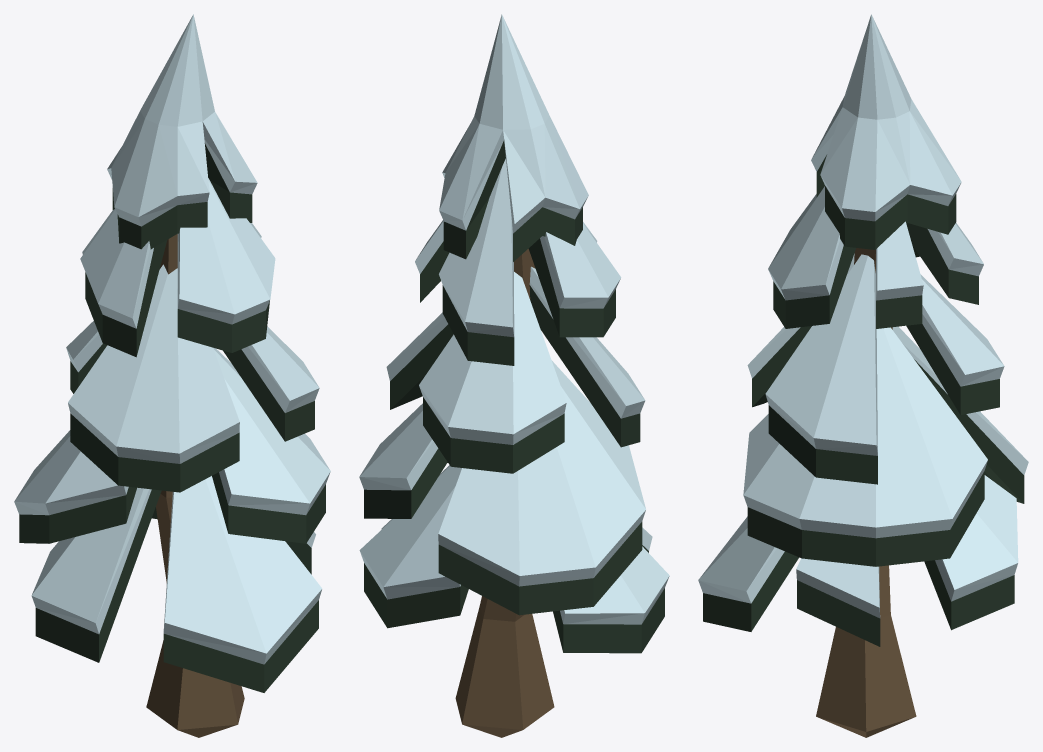
The model's file is SM_Env_Tree_Pine_01_Snow.fbx.
3 views of the same model, side by side, from view 1: azimuth 30°, elevation 25°; view 2: azimuth 150°, elevation 25°; view 3: azimuth 270°, elevation 25° (orthographic).
Visible parts, largest first — view 1: SM_Env_Tree_Pine_01_Snow; view 2: SM_Env_Tree_Pine_01_Snow; view 3: SM_Env_Tree_Pine_01_Snow.
Part boxes in pixels (x1,y1,x2,y2): SM_Env_Tree_Pine_01_Snow: (14,14,330,737); SM_Env_Tree_Pine_01_Snow: (359,14,669,737); SM_Env_Tree_Pine_01_Snow: (698,14,1028,737).
Bounding box in the file's own units: 143 × 365 × 151.
